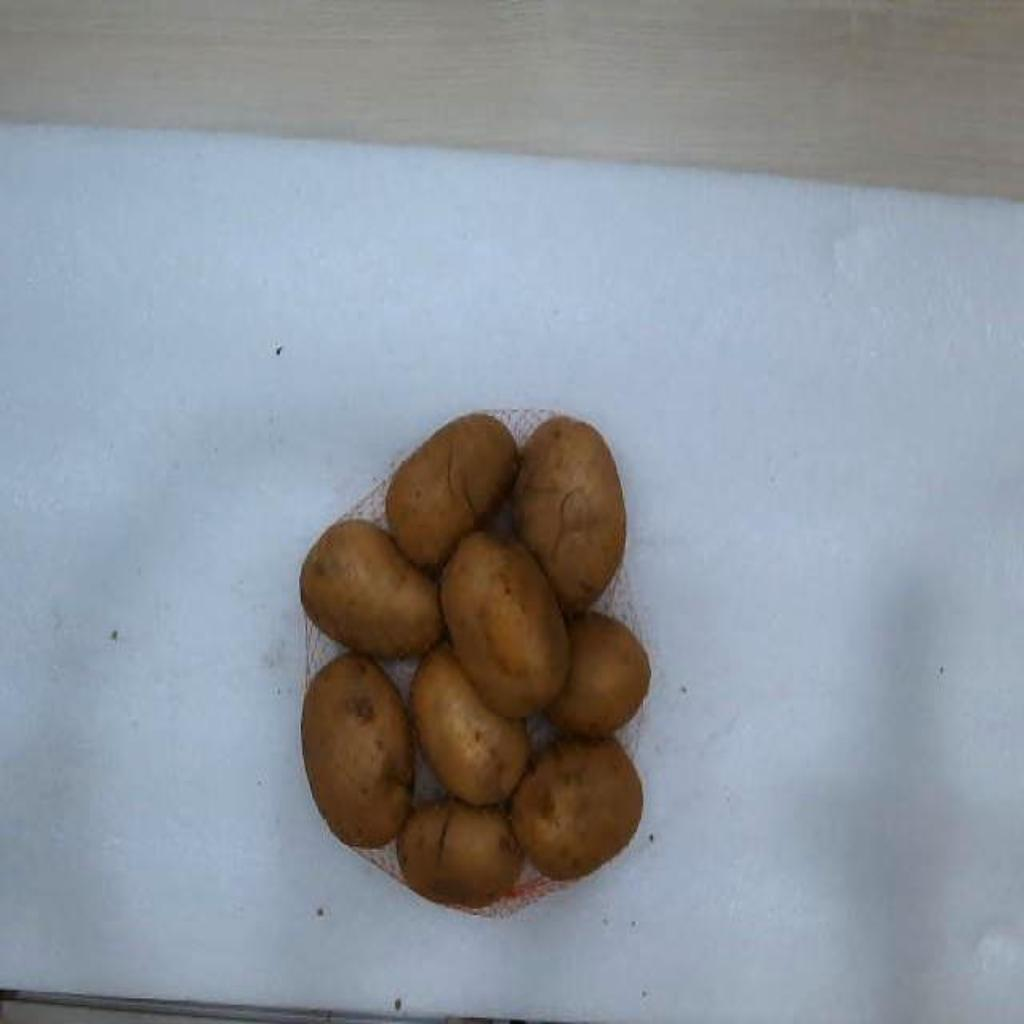potato: (302, 520, 570, 719), (512, 416, 626, 613), (302, 653, 412, 847), (386, 413, 518, 565), (414, 643, 530, 805), (512, 736, 642, 880), (398, 800, 522, 905), (546, 616, 650, 735), (434, 483, 476, 532)
